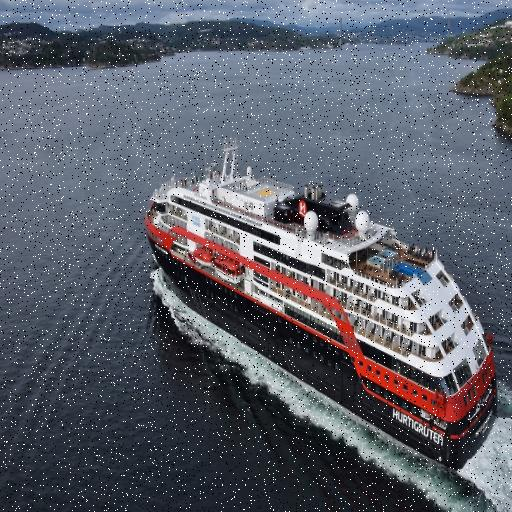cruises: (139, 133, 504, 479)
